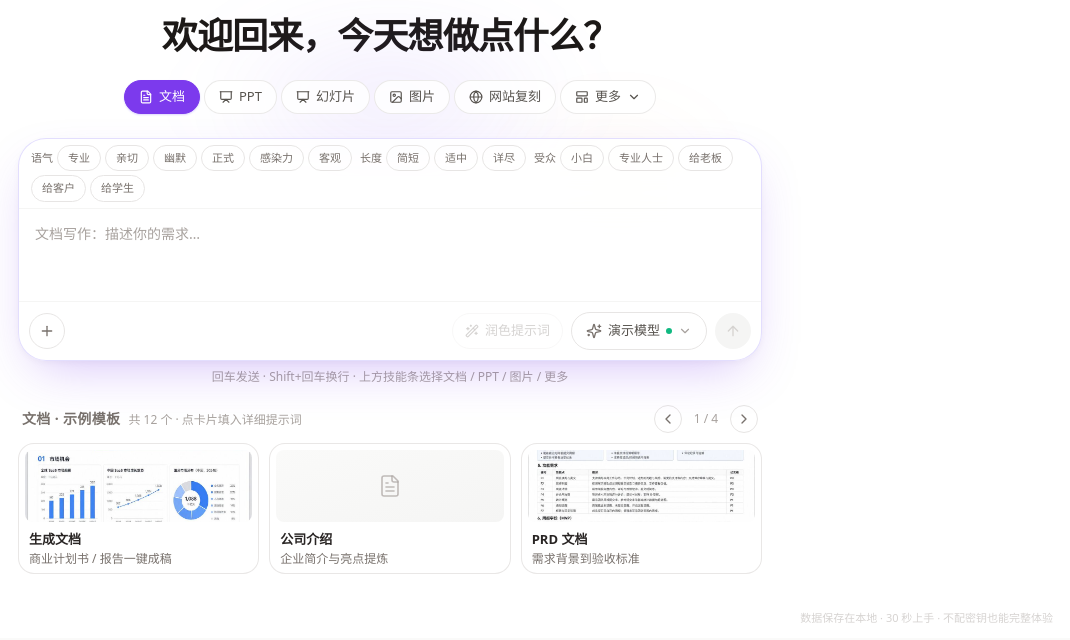
Test case: ChatPanel 提示词参数 › 空输入时点击参数直接把约束作为正文
This screenshot has width=1070, height=640.
Click the button "给老板" at (706, 158), box [678,144,733,171]
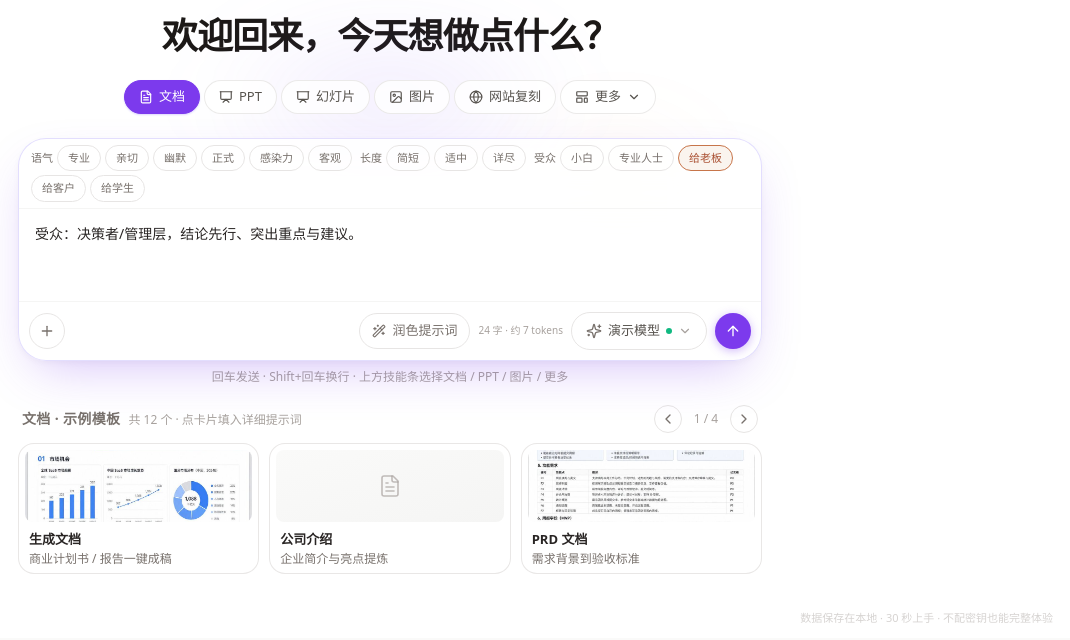
Result: the text box holds "受众：决策者/管理层，结论先行、突出重点与建议。" at [19,208,761,300]
